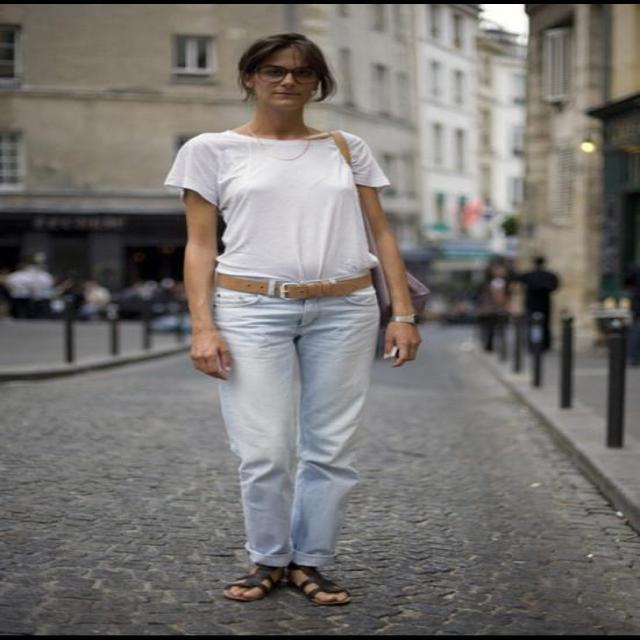Tshirt: (163, 130, 390, 283)
pants: (211, 272, 381, 567)
